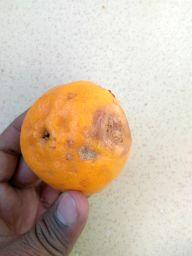Unripe: (21, 83, 131, 193)
